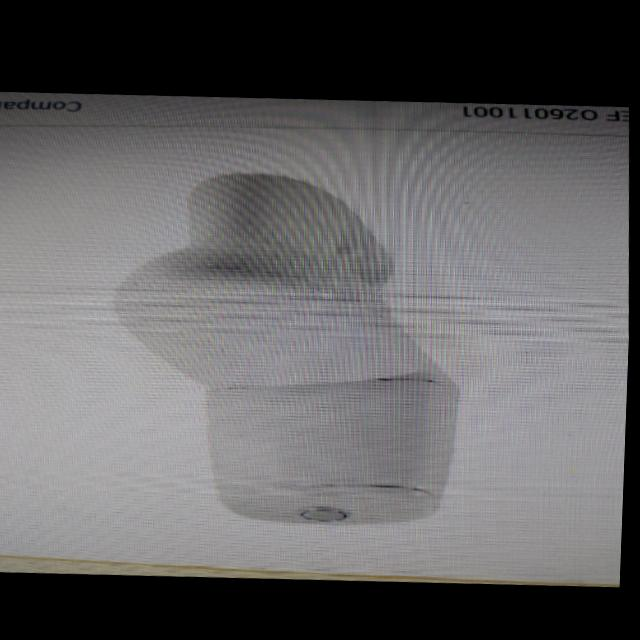toilet: (0, 69, 638, 601), (99, 156, 471, 535)
